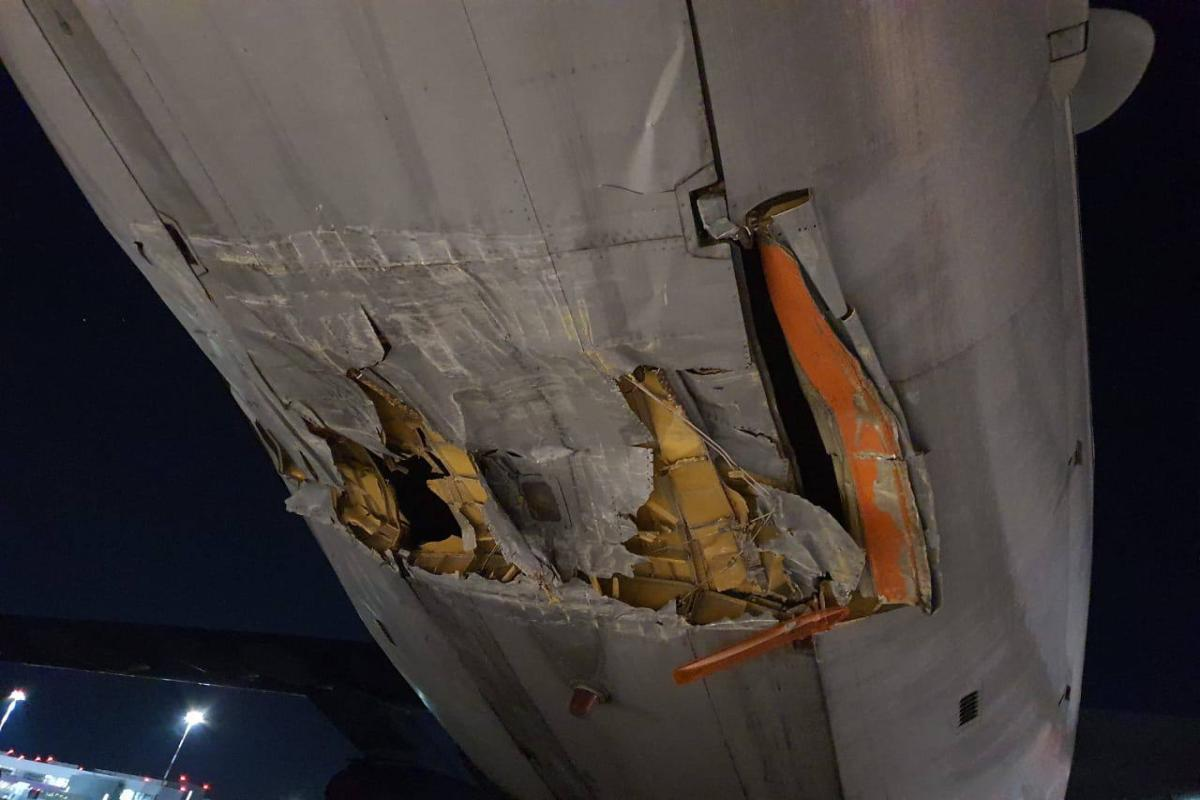Fuselage_damage: (114, 0, 950, 695), (188, 228, 647, 578), (741, 189, 938, 611), (750, 204, 932, 613), (607, 367, 763, 623), (732, 248, 847, 529), (358, 374, 516, 573), (479, 442, 653, 581), (253, 341, 383, 452), (674, 605, 848, 684), (751, 480, 864, 599), (325, 435, 407, 555), (775, 199, 850, 318), (685, 0, 724, 198), (388, 458, 459, 548), (689, 180, 752, 257), (691, 184, 740, 246), (660, 159, 712, 192), (683, 367, 731, 375), (700, 230, 714, 242)
